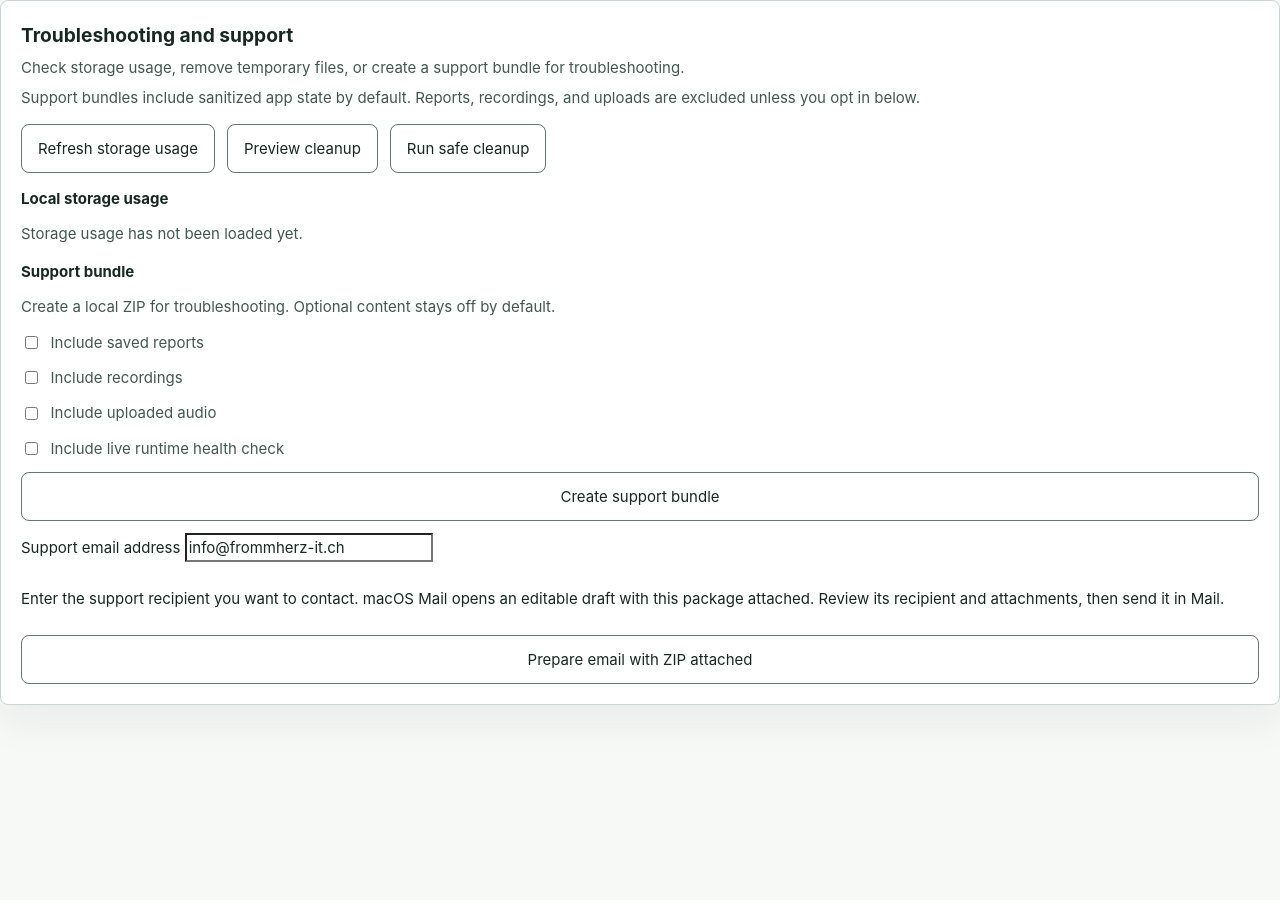
Test: prepares only the selected package as an editable email draft and preserves it after Mail failure
The image size is (1280, 900).
Expected: the button "Prepare email with ZIP attached" is disabled, [21,635,1259,684]
Expected: the field labelled "Support email address" holds "info@frommherz-it.ch", [185,533,433,562]
Click the button with test id "settings.support_create_bundle" at x=640, y=497, box [21,472,1259,521]
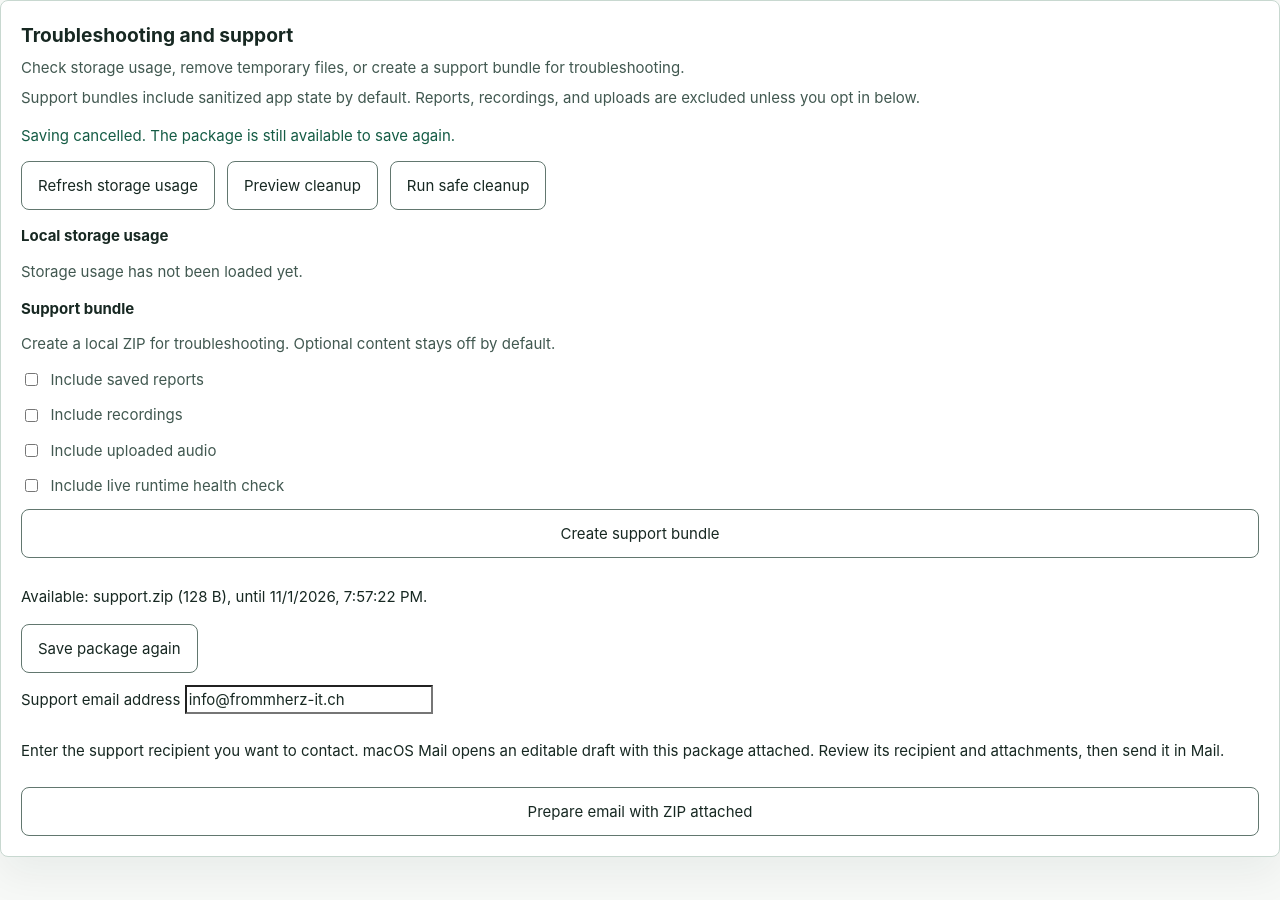
Expected: the text "Saving cancelled. The package is still available to save again." is shown, [21,126,455,145]
Click the button "Prepare email with ZIP attached" at x=640, y=811, box [21,787,1259,836]
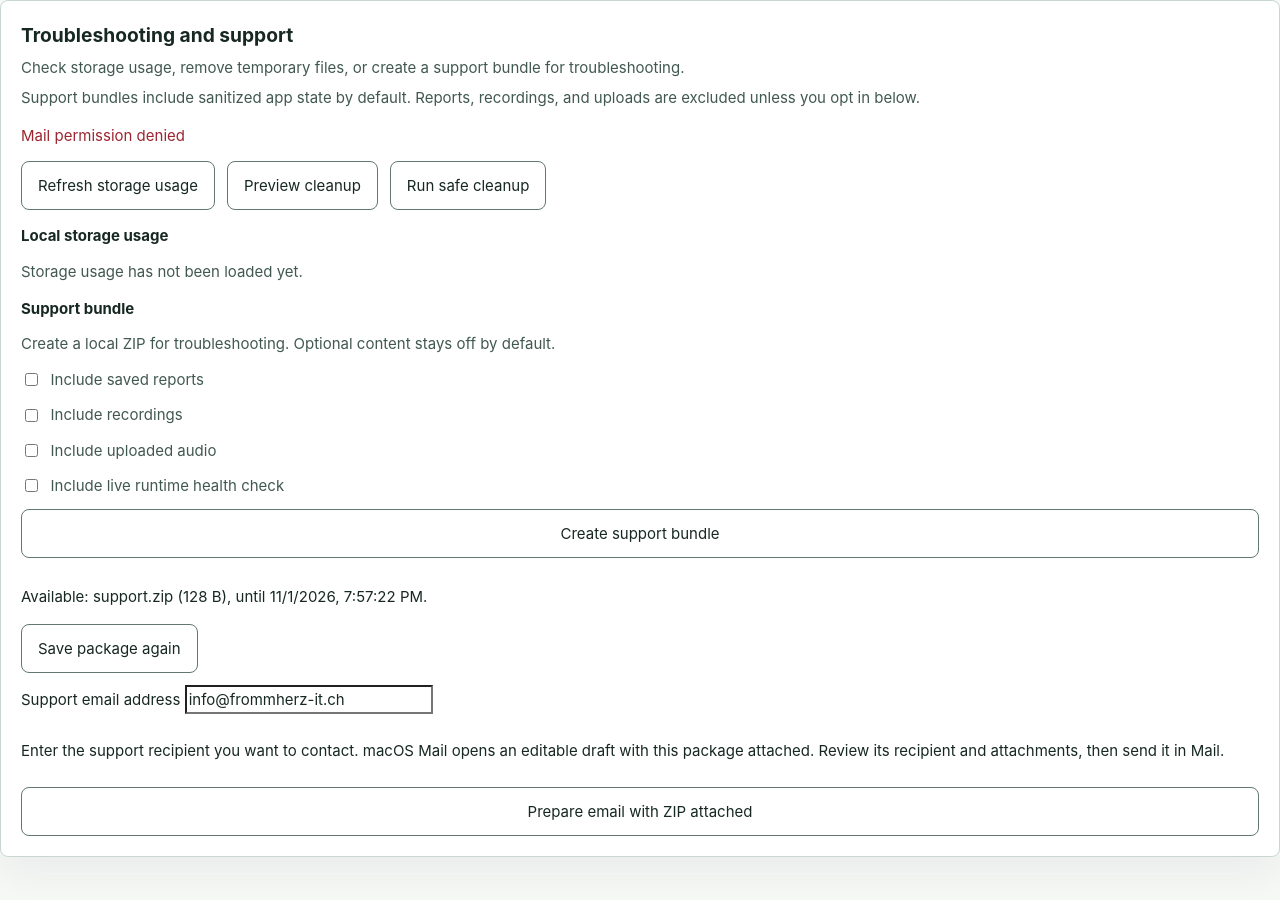
Expected: the text "Email draft prepared in Mail. Review and send it there." is not shown
Expected: the text "Mail permission denied" is shown, [21,126,185,145]
Replace the text in the field labelled "Support email address" with "support@example.org" at x=309, y=700, box [185,685,433,714]
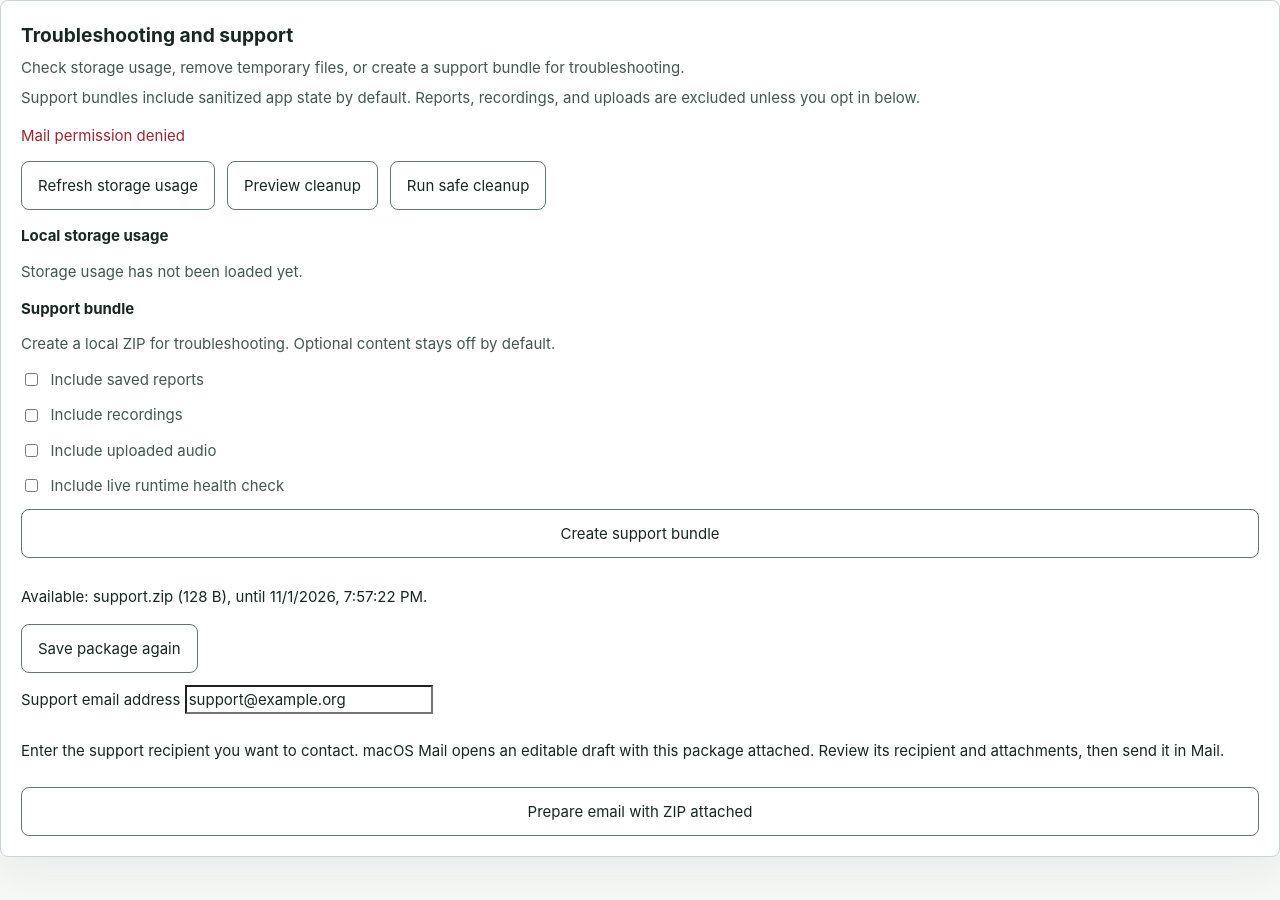
Click the button "Prepare email with ZIP attached" at x=640, y=811, box [21,787,1259,836]
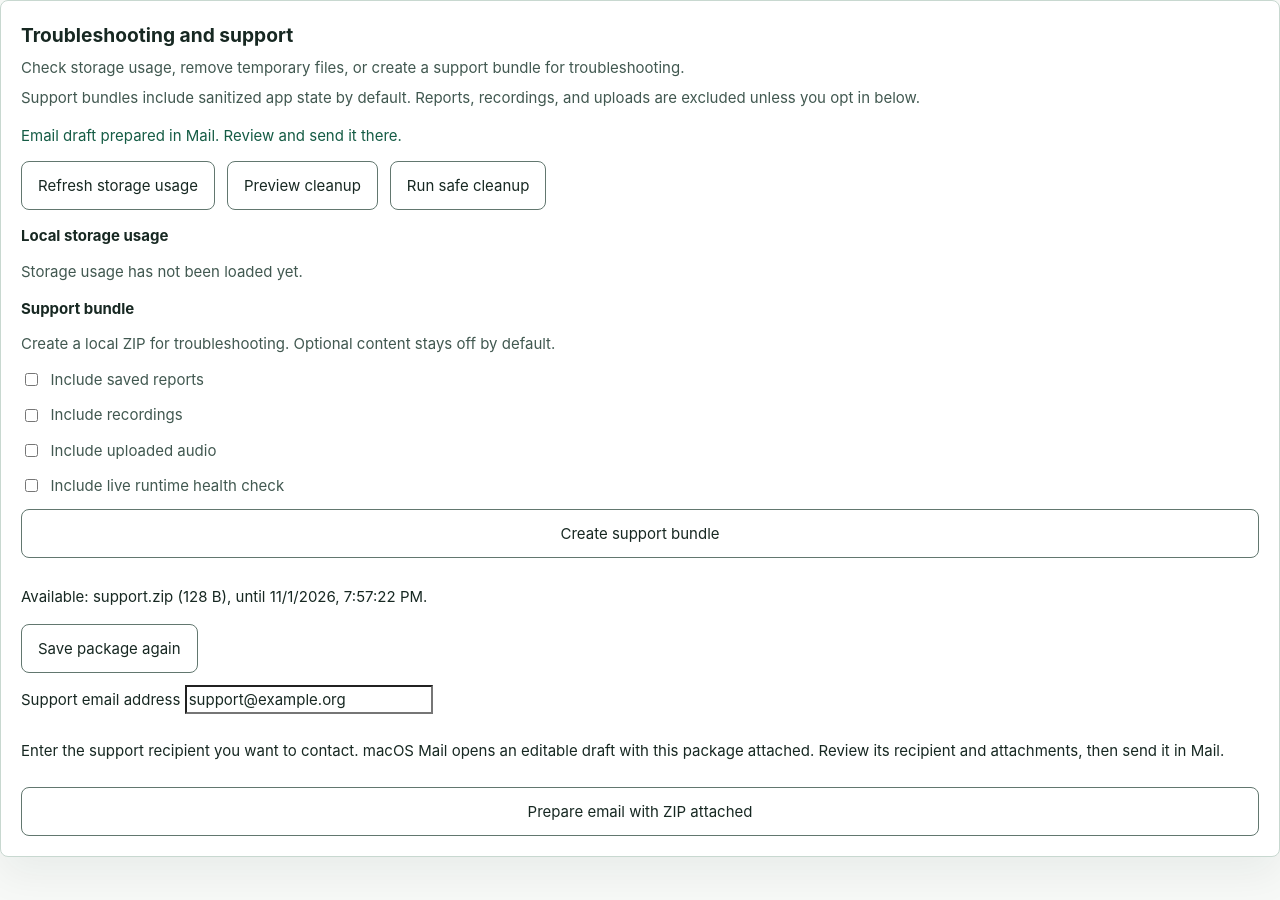
Expected: the text "Email draft prepared in Mail. Review and send it there." is shown, [21,126,402,145]
